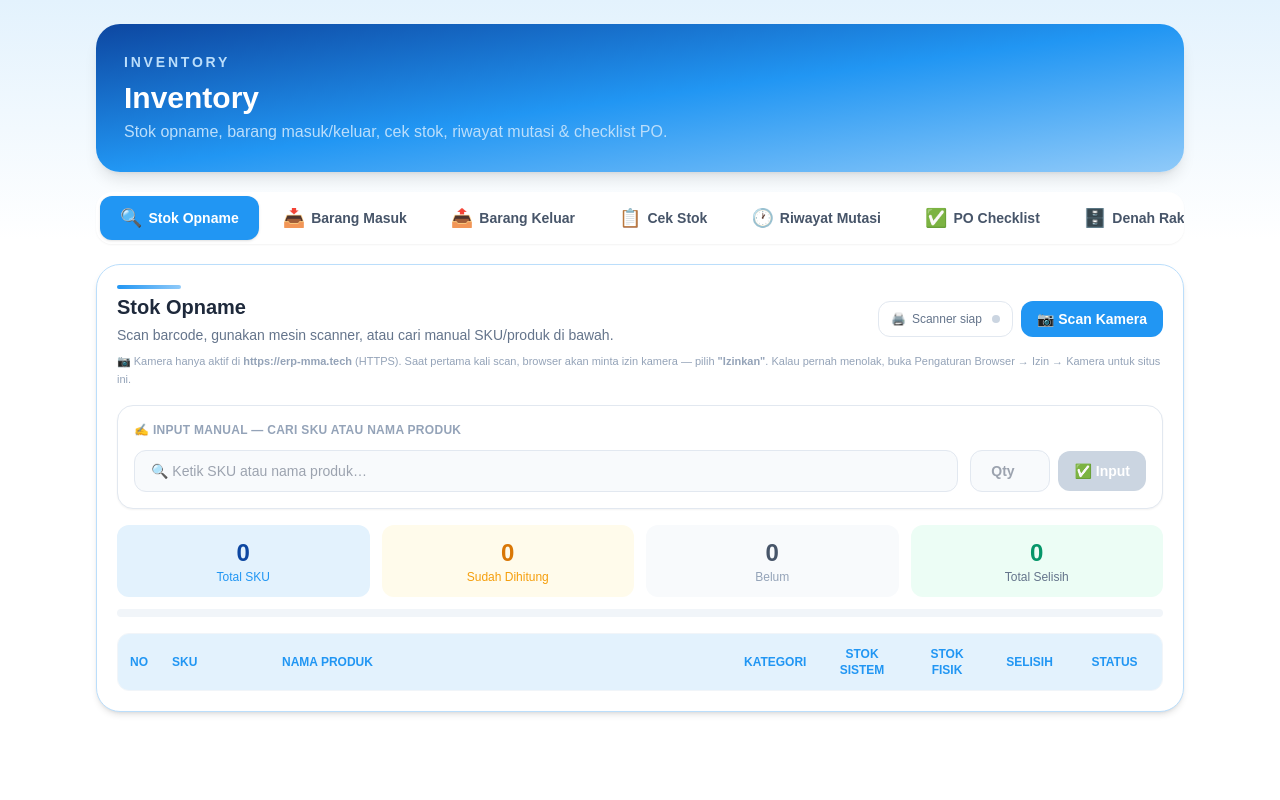
StokBarangPage › shows Riwayat Mutasi with summary and filter buttons
What coordinates should you click on to do the following:
click the tab "🕐 Riwayat Mutasi"
I would click on:
 (816, 218)
Its box is 731,196 -> 901,240.
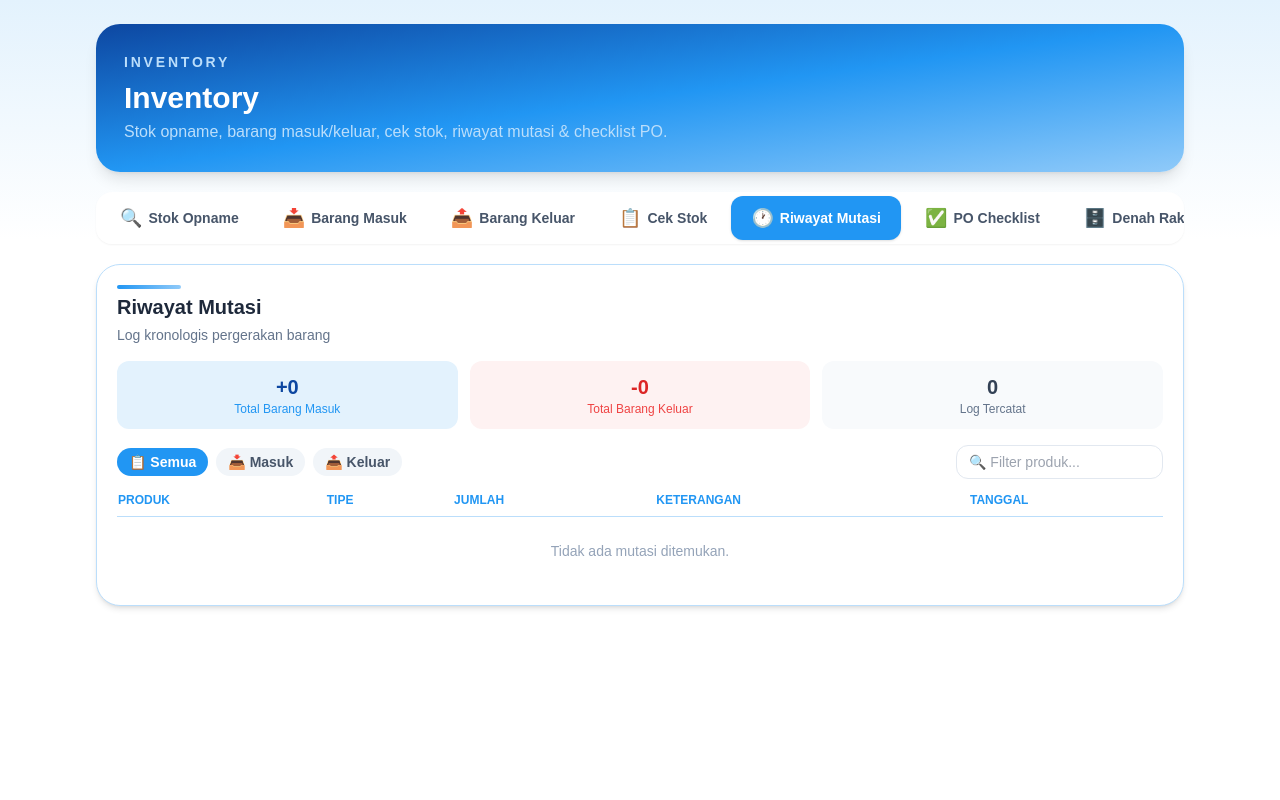
Expected: the text "Log kronologis pergerakan barang" is shown, 117,327 -> 330,343
Expected: the text "Total Barang Masuk" is shown, 234,402 -> 340,416
Expected: the text "Total Barang Keluar" is shown, 587,402 -> 693,416
